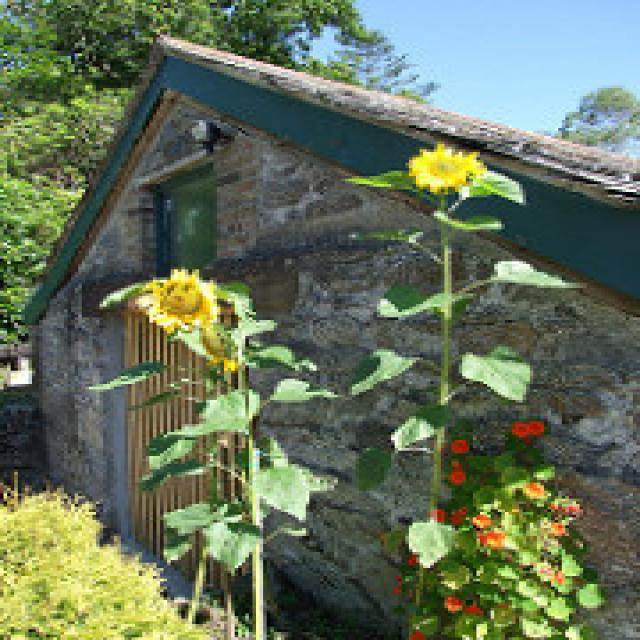sunflower: (406, 138, 494, 210), (146, 269, 234, 331)
